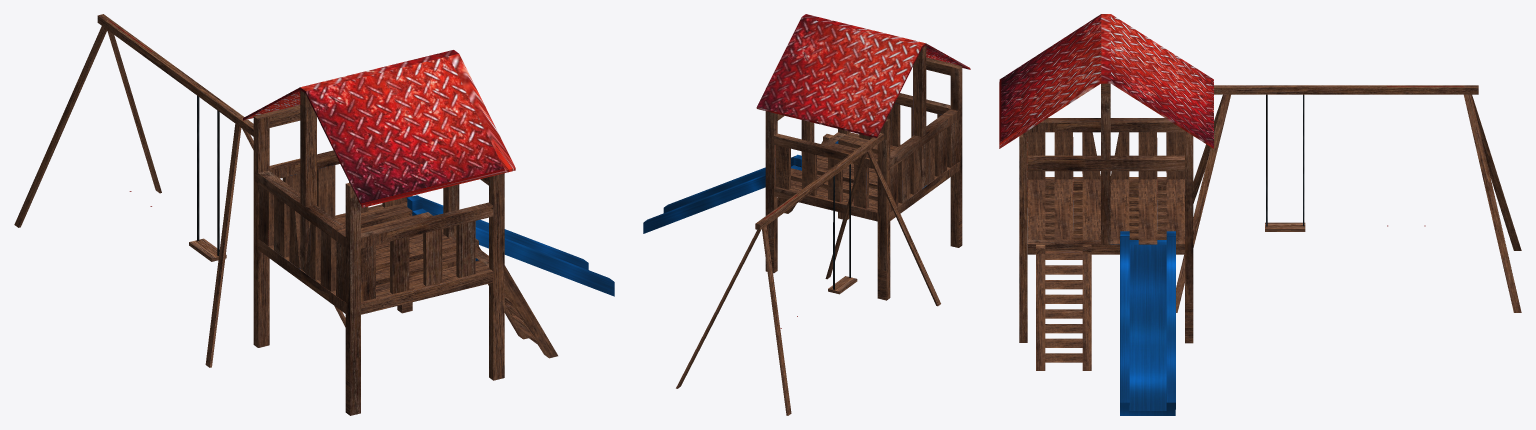
File: base_columpio.obj
The picture shows the model from 3 angles, left to right: view 1: azimuth 30°, elevation 25°; view 2: azimuth 150°, elevation 25°; view 3: azimuth 270°, elevation 25°; orthographic projection. The views are drawn at different scales.
Parts seen in each view (by area): view 1: Cube_Cube.003; view 2: Cube_Cube.003; view 3: Cube_Cube.003.
Boxes of the visible parts, x1,y1,x2,y2 form: Cube_Cube.003: (14, 14, 614, 415); Cube_Cube.003: (643, 14, 970, 415); Cube_Cube.003: (999, 14, 1521, 415).
Bounding box in the file's own units: 256 × 189 × 342.
1 material, 1 textured.
